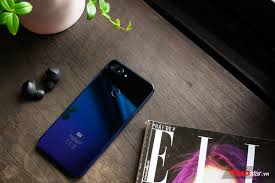mi: (32, 54, 157, 181)
